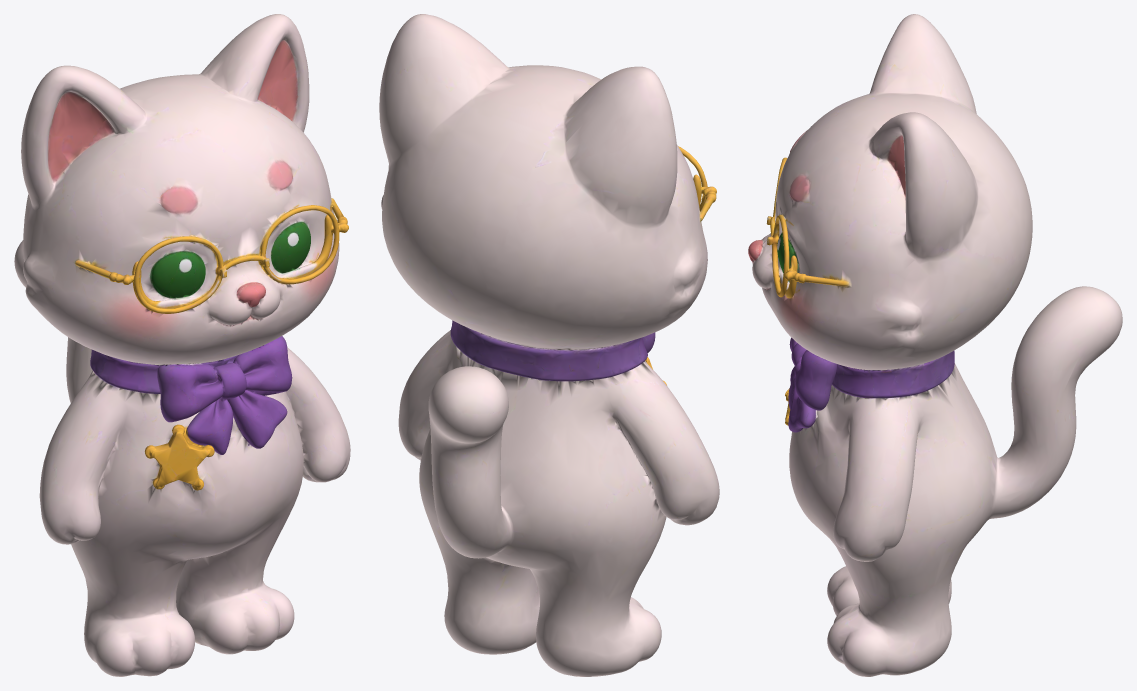
File: snowy.glb
3 renders of one model, left to right at view 1: azimuth 30°, elevation 25°; view 2: azimuth 150°, elevation 25°; view 3: azimuth 270°, elevation 25°, orthographic. The views are drawn at different scales.
Size of the model in its own units: 1.02 by 1.9 by 1.13.
Materials: 1 (1 with a texture image).
